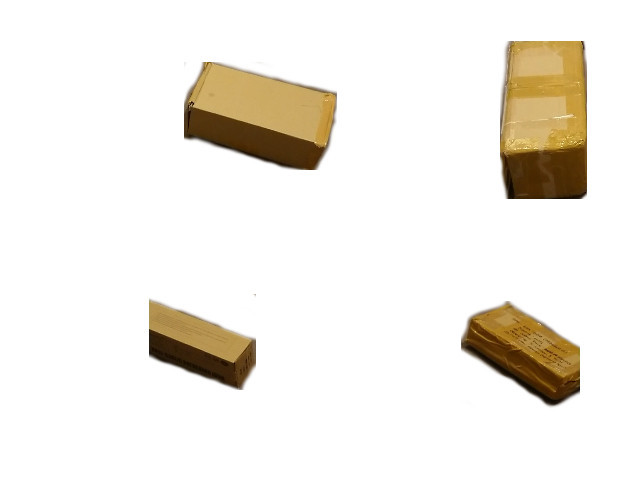cardboard: (185, 61, 335, 166), (500, 40, 588, 199), (465, 303, 581, 405), (150, 297, 256, 383)
